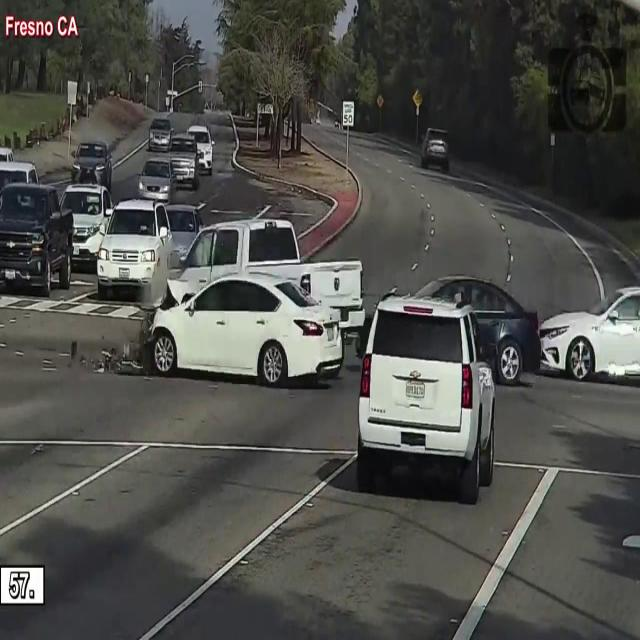accident: (134, 213, 371, 416)
non_accident: (0, 155, 112, 305), (123, 101, 221, 203)
